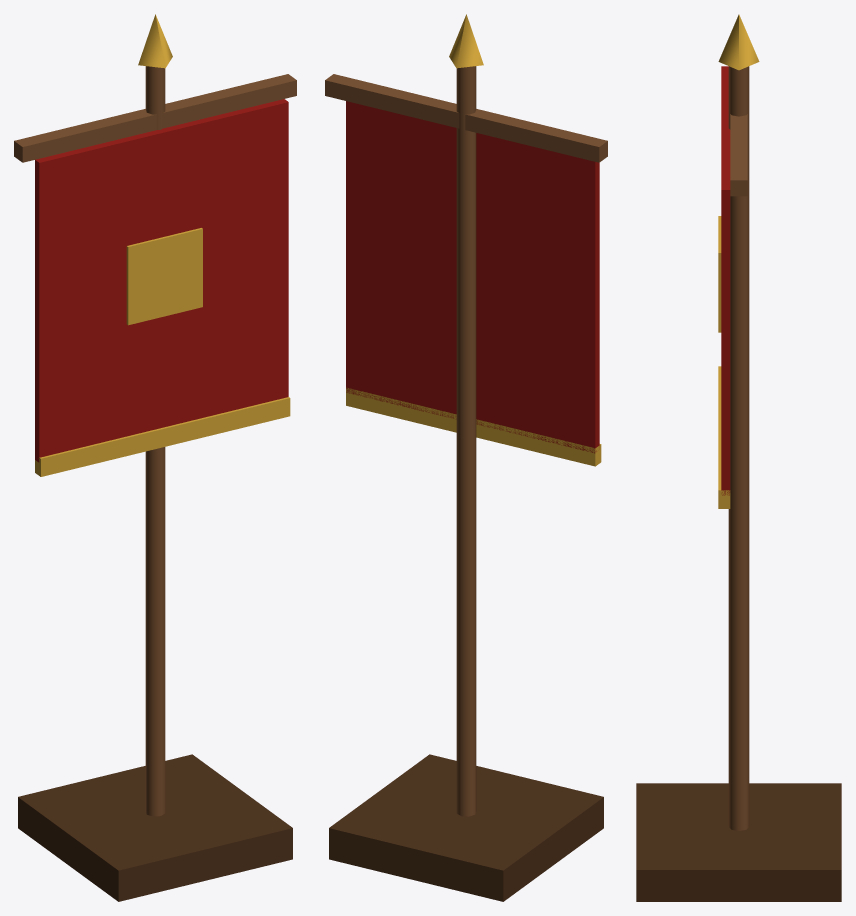
The model's file is im_vexillum.glb.
3 renders of one model, left to right at view 1: azimuth 30°, elevation 25°; view 2: azimuth 150°, elevation 25°; view 3: azimuth 270°, elevation 25°, orthographic.
Visible parts, largest first — view 1: im_vexillum; view 2: im_vexillum; view 3: im_vexillum.
Boxes of the visible parts, left/top/right/bottom form: im_vexillum: left=14, top=14, right=296, bottom=901; im_vexillum: left=325, top=14, right=607, bottom=901; im_vexillum: left=636, top=14, right=841, bottom=901.
Size of the model in its own units: 1.1 by 3.18 by 0.7.
